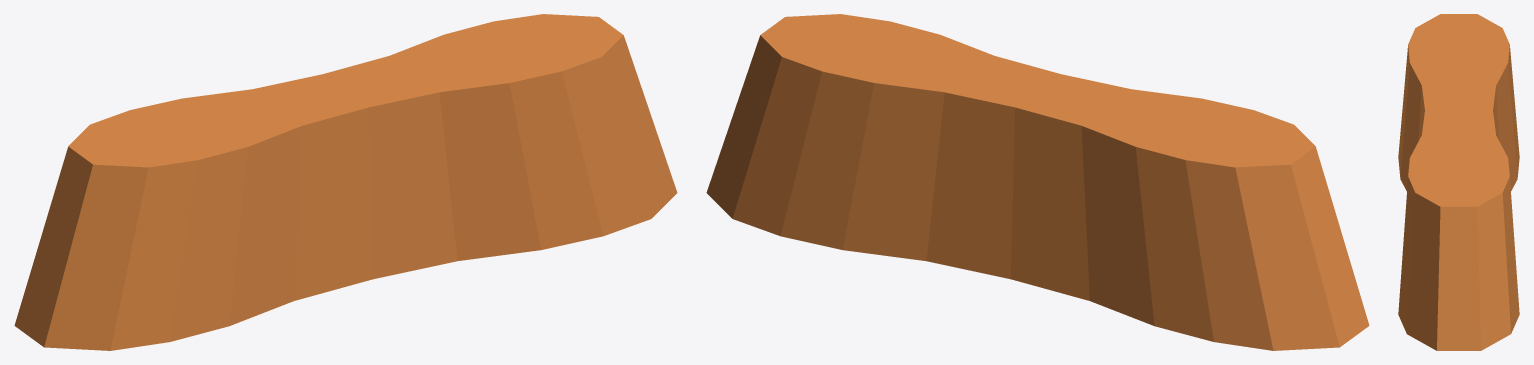
File: broom_0.obj
3 renders of one model, left to right at view 1: azimuth 30°, elevation 25°; view 2: azimuth 150°, elevation 25°; view 3: azimuth 270°, elevation 25°, orthographic. The views are drawn at different scales.
Bounding box in the file's own units: 36.57 × 9.3 × 8.15.
